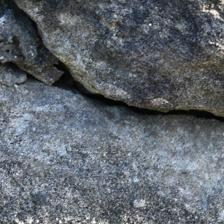Crack: (22, 128, 103, 192), (12, 78, 57, 142)
